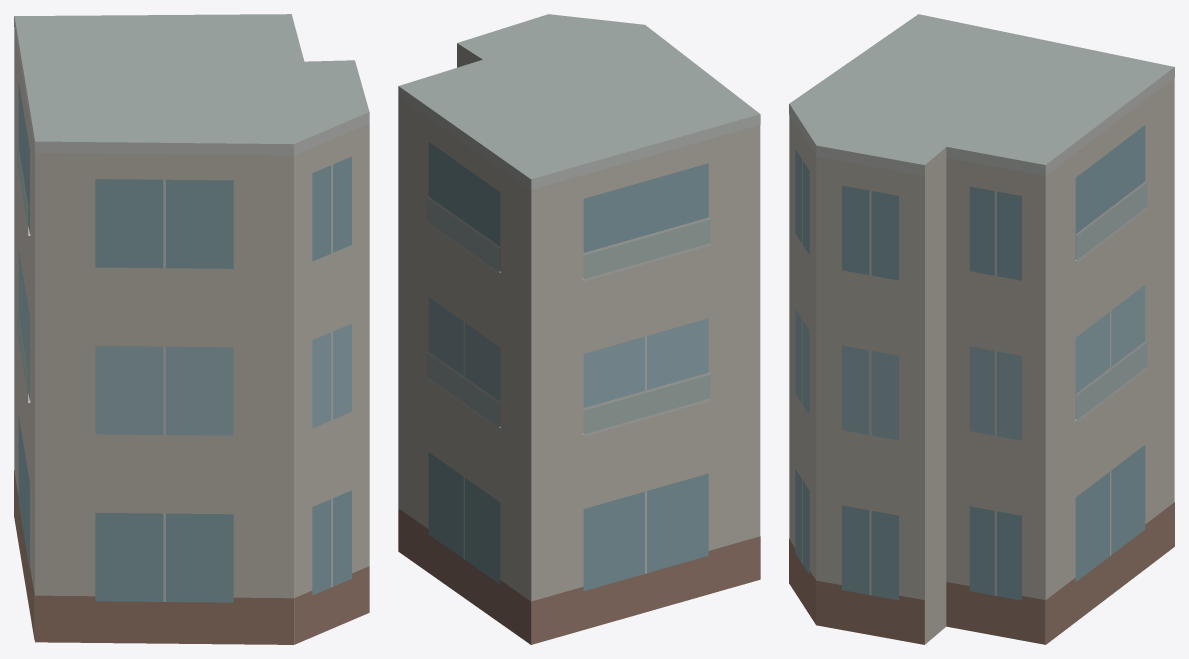
File: survey-upis-32489698.glb
The picture shows the model from 3 angles, left to right: view 1: azimuth 30°, elevation 25°; view 2: azimuth 150°, elevation 25°; view 3: azimuth 270°, elevation 25°; orthographic projection. The views are drawn at different scales.
Parts seen in each view (by area): view 1: survey-upis-32489698.tmp; view 2: survey-upis-32489698.tmp; view 3: survey-upis-32489698.tmp.
Boxes of the visible parts, x1,y1,x2,y2 form: survey-upis-32489698.tmp: (14,14,369,644); survey-upis-32489698.tmp: (398,14,760,644); survey-upis-32489698.tmp: (789,14,1174,644).
Bounding box in the file's own units: 7.31 × 10.8 × 7.87.
